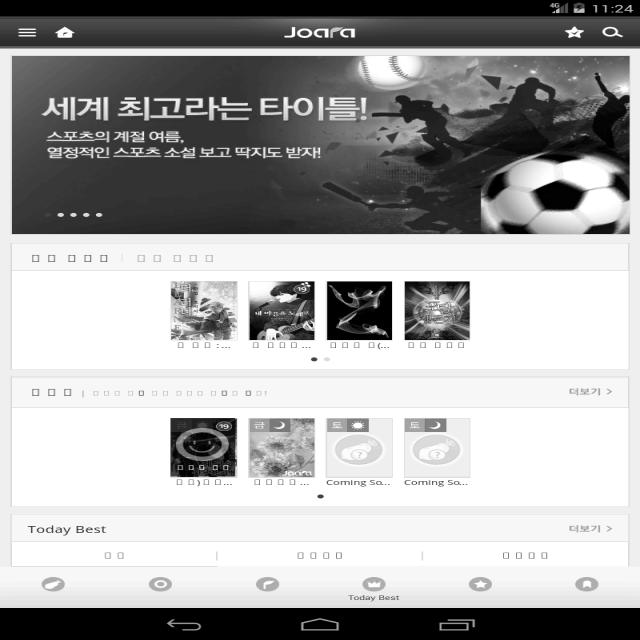ImageButton: (564, 572, 614, 594), (142, 574, 186, 592), (462, 572, 494, 592), (13, 24, 42, 44), (52, 24, 82, 42), (559, 25, 590, 41), (600, 23, 626, 41)
ImageView: (16, 58, 622, 233), (250, 417, 464, 479), (166, 279, 238, 337), (171, 416, 237, 474), (250, 279, 313, 338), (326, 282, 391, 338), (405, 282, 472, 336)
TextView: (278, 21, 363, 41), (21, 522, 117, 535)
